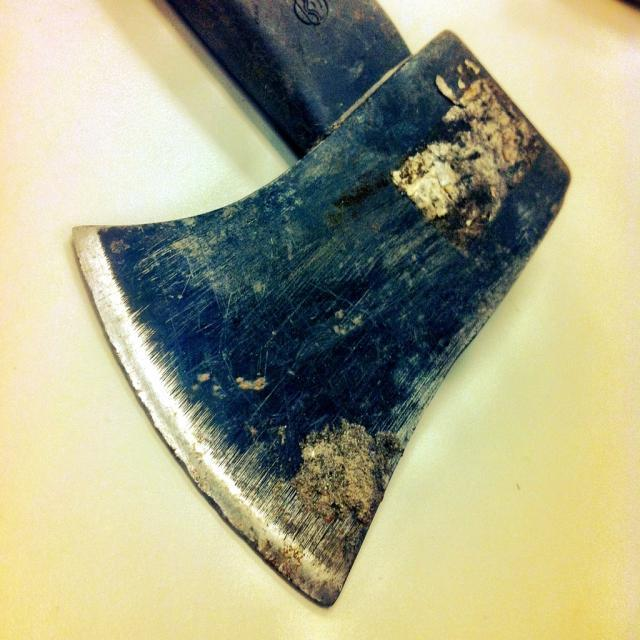Knife: (74, 32, 569, 604)
